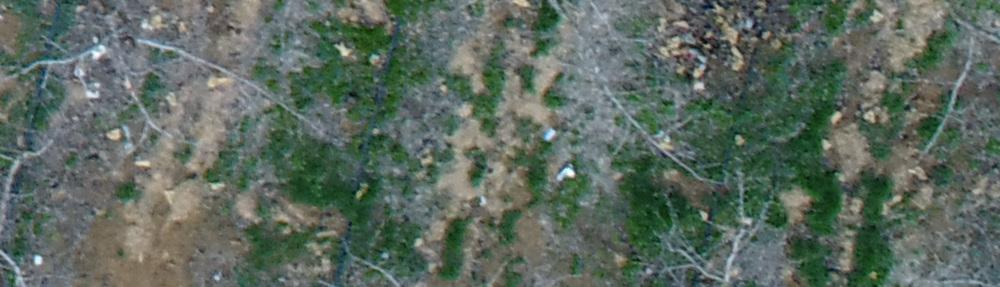apple: (10, 10, 425, 165)
